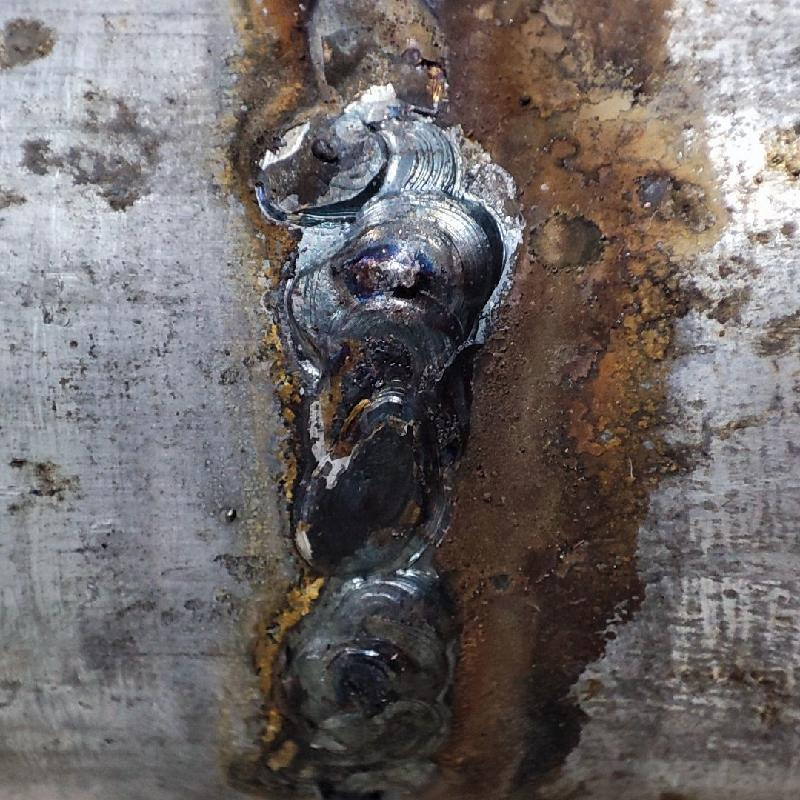Not_fully_soldered: (261, 2, 458, 192)
wrong_size: (268, 208, 493, 760)
